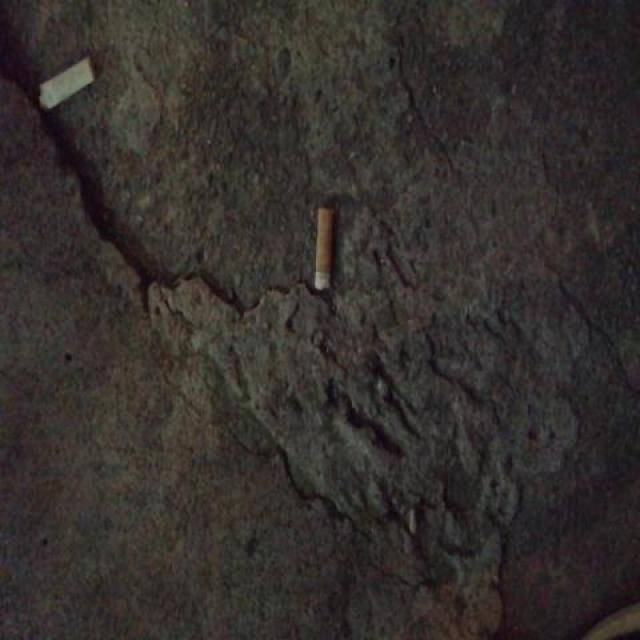non-organic waste: (33, 49, 99, 116), (310, 201, 335, 299)
